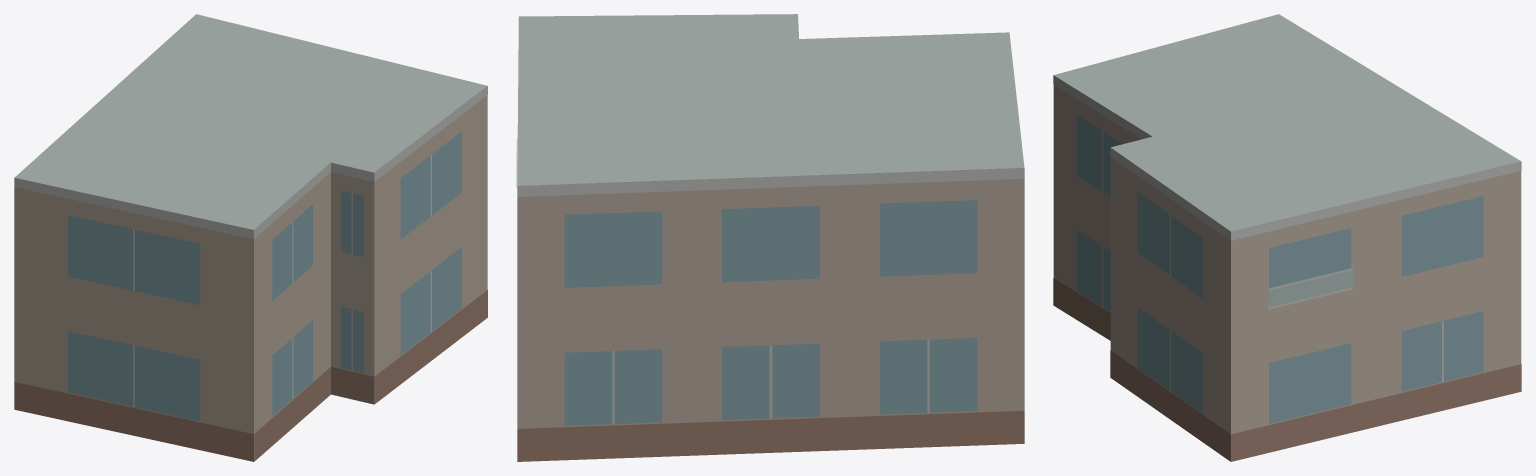
Rendered from survey-upis-32792837.glb.
3 renders of one model, left to right at view 1: azimuth 30°, elevation 25°; view 2: azimuth 150°, elevation 25°; view 3: azimuth 270°, elevation 25°, orthographic. The views are drawn at different scales.
Visible parts, largest first — view 1: survey-upis-32792837.tmp; view 2: survey-upis-32792837.tmp; view 3: survey-upis-32792837.tmp.
Part boxes in pixels (x1,y1,x2,y2): survey-upis-32792837.tmp: (14, 14, 487, 461); survey-upis-32792837.tmp: (516, 14, 1024, 461); survey-upis-32792837.tmp: (1053, 14, 1521, 461).
Bounding box in the file's own units: 12.38 × 6.1 × 11.25.
